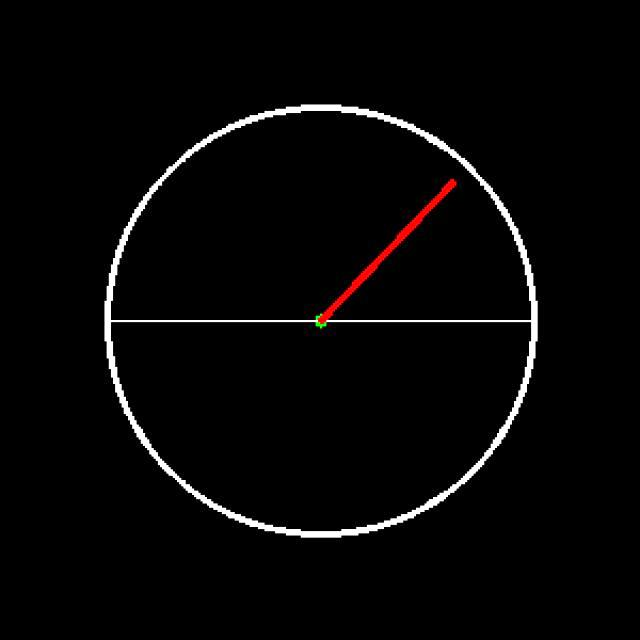Needle_Tip: (423, 170, 464, 216)
Needle_base: (285, 299, 358, 361)
